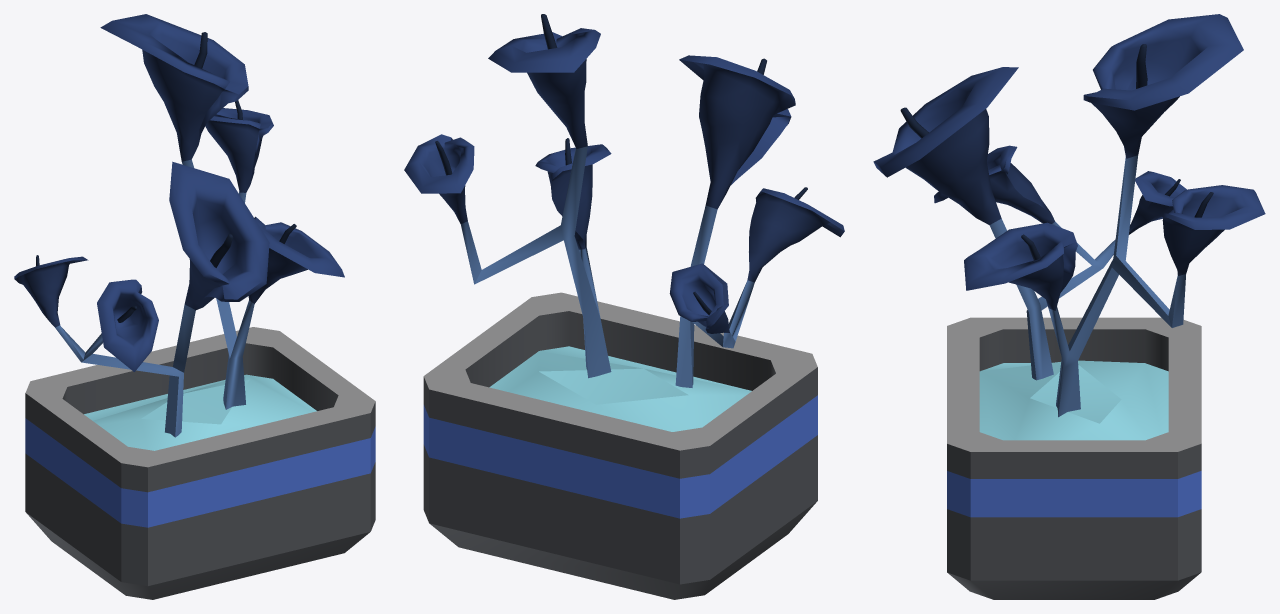
File: Plant19.glb
3 renders of one model, left to right at view 1: azimuth 30°, elevation 25°; view 2: azimuth 150°, elevation 25°; view 3: azimuth 270°, elevation 25°, orthographic. The views are drawn at different scales.
Visible parts, largest first — view 1: Plant19; view 2: Plant19; view 3: Plant19.
Part boxes in pixels (<box>): Plant19: <box>14,14,375,599</box>; Plant19: <box>404,14,844,599</box>; Plant19: <box>873,14,1265,599</box>.
Bounding box in the file's own units: 0.6573 × 1.09 × 0.75.
1 material, 1 textured.
